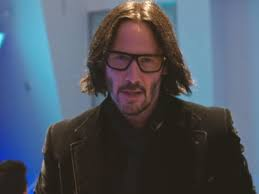Glasses: (101, 46, 171, 75)
